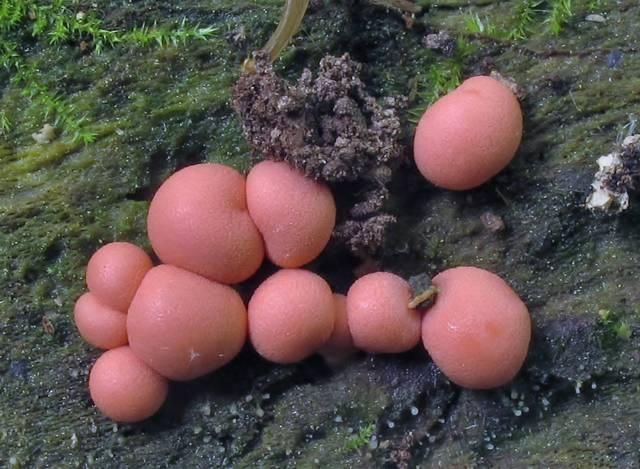poisonous_mushroom: (73, 156, 532, 422), (408, 264, 532, 390), (145, 161, 264, 284), (125, 263, 247, 381), (411, 73, 524, 191), (244, 158, 336, 268), (247, 267, 335, 364), (345, 270, 422, 354), (87, 344, 168, 423)
